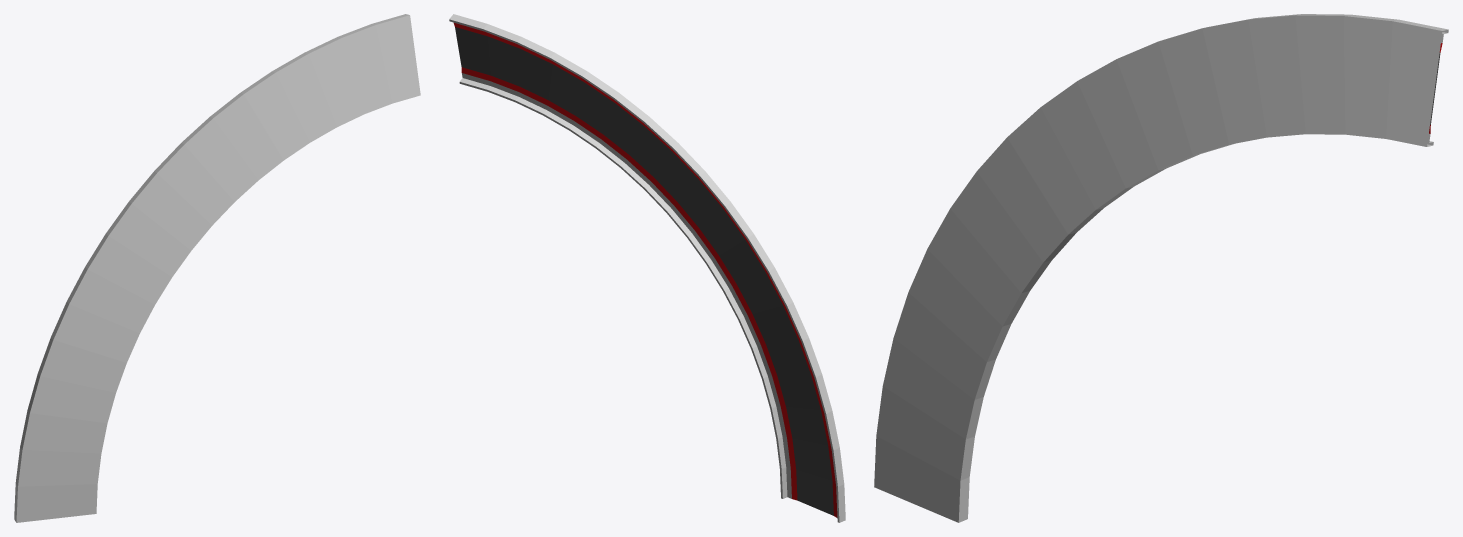
Rendered from Bend_Pitch1.fbx.
The picture shows the model from 3 angles, left to right: view 1: azimuth 30°, elevation 25°; view 2: azimuth 150°, elevation 25°; view 3: azimuth 330°, elevation 25°; orthographic projection. The views are drawn at different scales.
Parts seen in each view (by area): view 1: Bend_Pitch1; view 2: Bend_Pitch1; view 3: Bend_Pitch1.
Boxes of the visible parts, x1=… form: Bend_Pitch1: x1=14, y1=14, x2=420, y2=522; Bend_Pitch1: x1=449, y1=14, x2=845, y2=522; Bend_Pitch1: x1=874, y1=14, x2=1448, y2=522.
Size of the model in its own units: 7023 by 7023 by 467.
